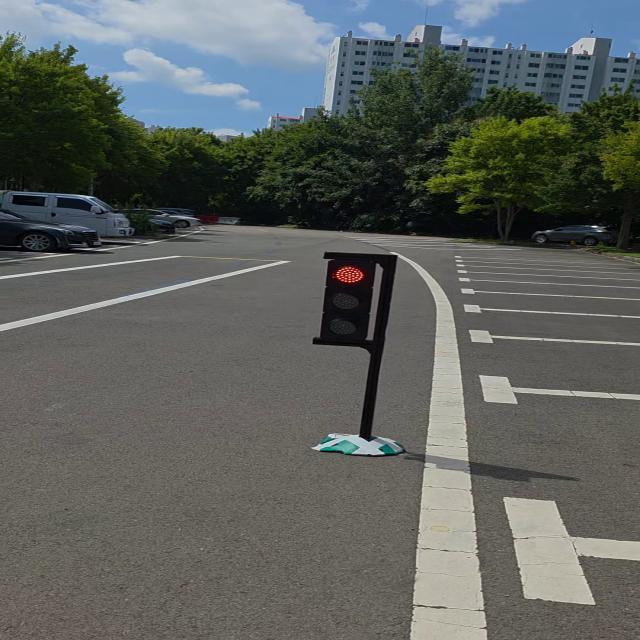red: (320, 252, 379, 350)
